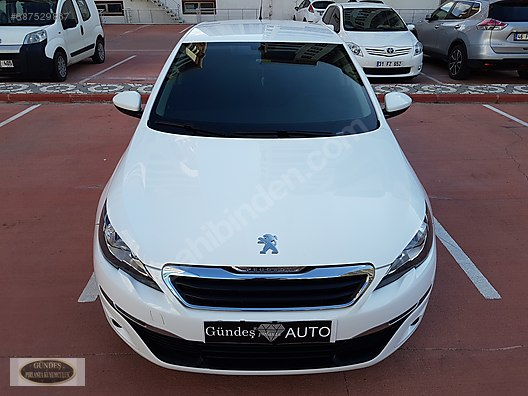peugeot: (82, 21, 452, 379)
